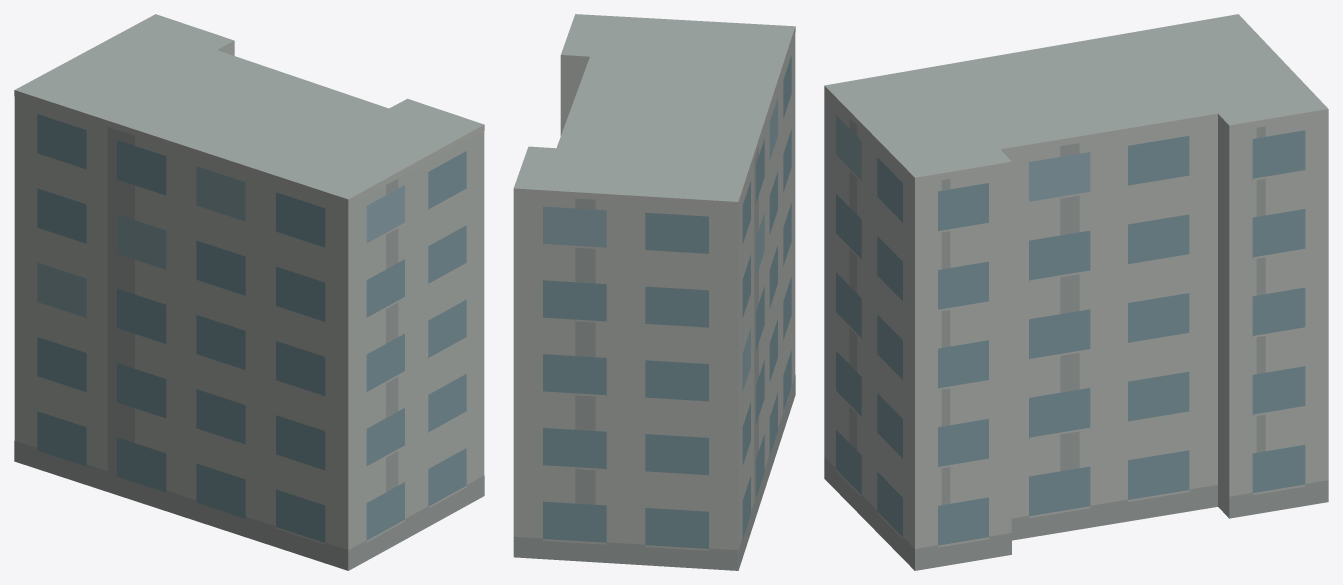
The model's file is survey-upis-32882660.glb.
3 views of the same model, side by side, from view 1: azimuth 30°, elevation 25°; view 2: azimuth 150°, elevation 25°; view 3: azimuth 270°, elevation 25° (orthographic). The views are drawn at different scales.
Parts seen in each view (by area): view 1: survey-upis-32882660.tmp; view 2: survey-upis-32882660.tmp; view 3: survey-upis-32882660.tmp.
Boxes of the visible parts, x1=… form: survey-upis-32882660.tmp: x1=14, y1=14, x2=484, y2=570; survey-upis-32882660.tmp: x1=513, y1=14, x2=795, y2=570; survey-upis-32882660.tmp: x1=824, y1=14, x2=1328, y2=570.
Size of the model in its own units: 12.65 by 14.15 by 16.46.
